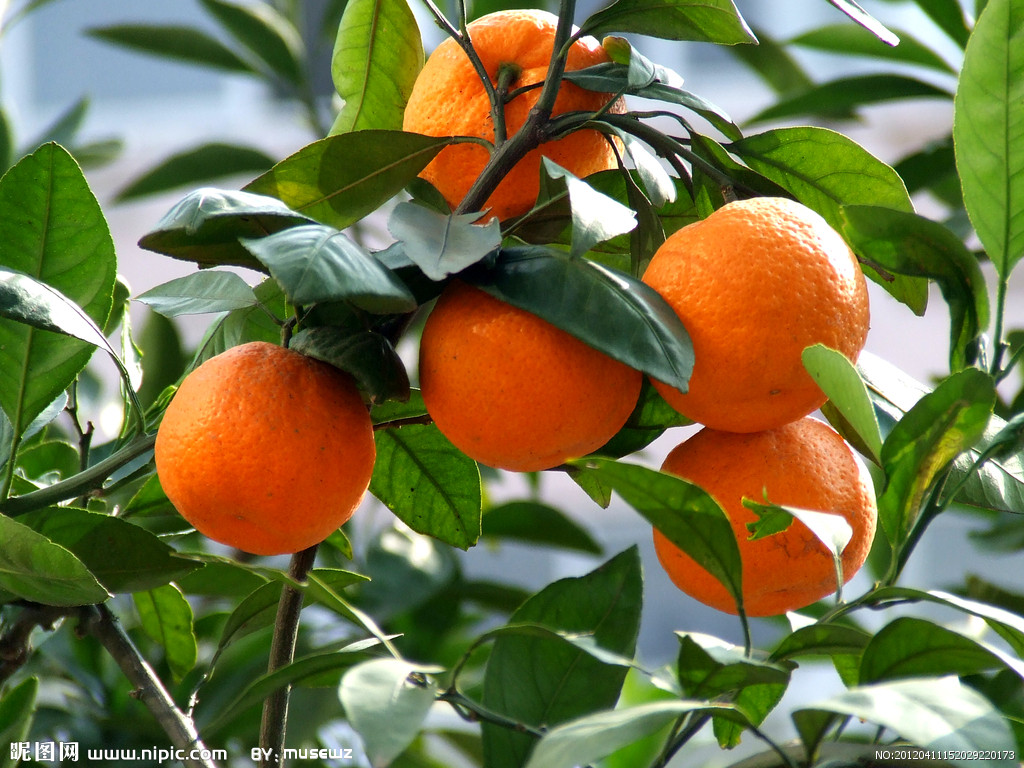orange: (636, 196, 872, 432), (415, 252, 645, 470), (153, 341, 373, 554), (402, 7, 621, 214), (651, 412, 873, 616)
